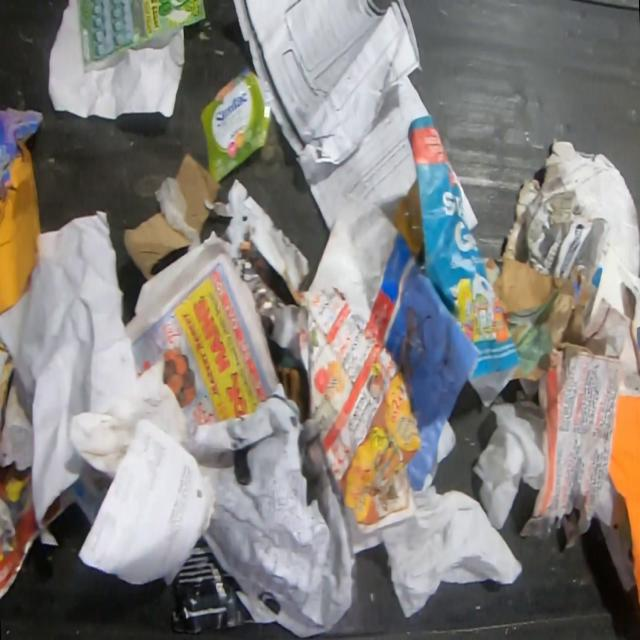cardboard: (122, 212, 191, 281), (493, 257, 573, 313), (0, 104, 45, 202), (175, 152, 226, 238), (274, 364, 305, 422)
soft_plastic: (198, 61, 273, 183), (153, 177, 202, 254)
